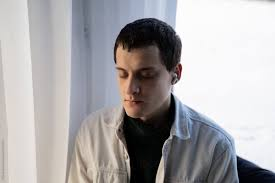earphone: (171, 63, 182, 85)
